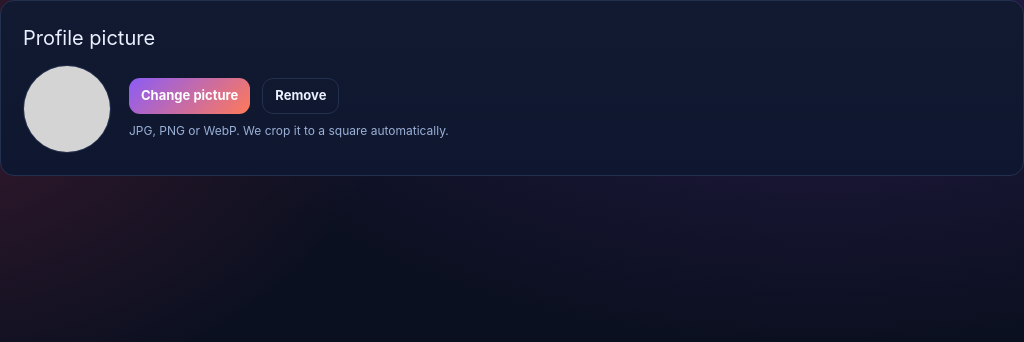
Test: <AvatarUpload> › removes the picture
The image size is (1024, 342).
Click the button "Remove". click: (301, 96)
box: x1=262 y1=78 x2=339 y2=114
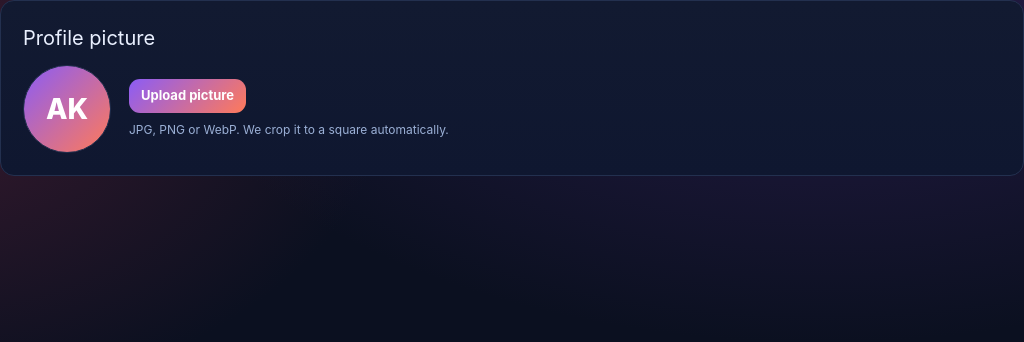
Expected: the text named "no profile picture" is shown, x1=23 y1=65 x2=111 y2=153
